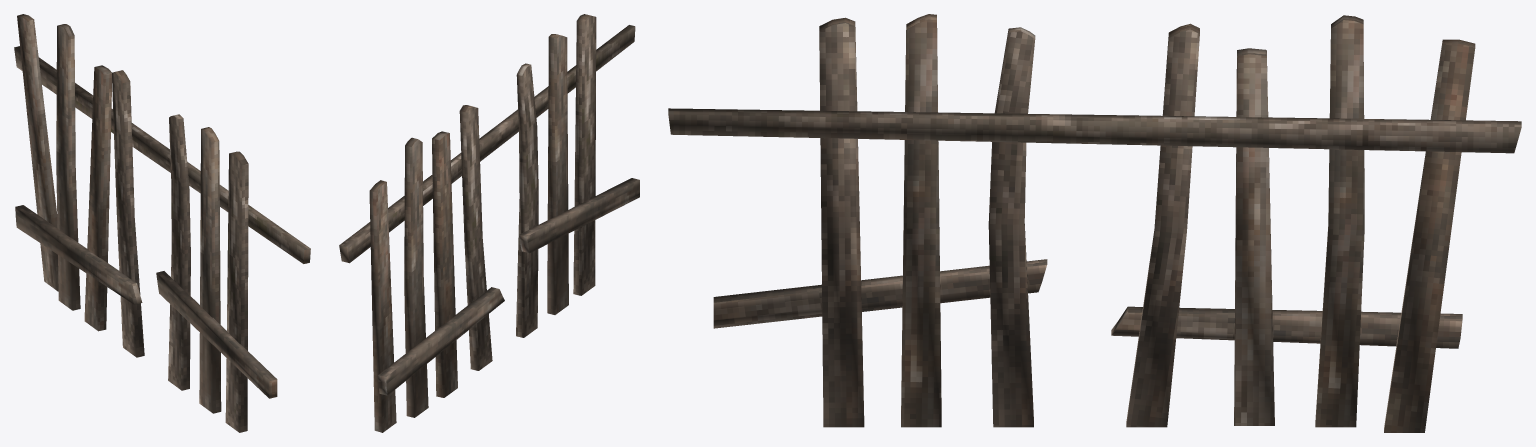
The model's file is big_fence_2.fbx.
The picture shows the model from 3 angles, left to right: view 1: azimuth 30°, elevation 25°; view 2: azimuth 150°, elevation 25°; view 3: azimuth 270°, elevation 25°; orthographic projection. The views are drawn at different scales.
Parts seen in each view (by area): view 1: big_fence_2; view 2: big_fence_2; view 3: big_fence_2.
Boxes of the visible parts, x1=… form: big_fence_2: x1=14, y1=14, x2=310, y2=432; big_fence_2: x1=339, y1=14, x2=639, y2=432; big_fence_2: x1=668, y1=14, x2=1521, y2=432.
Size of the model in its own units: 25.74 by 478 by 252.
